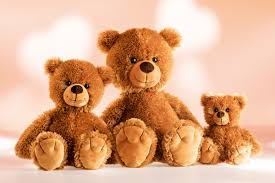teddy: (81, 24, 210, 167), (14, 51, 125, 172), (191, 87, 265, 170)
